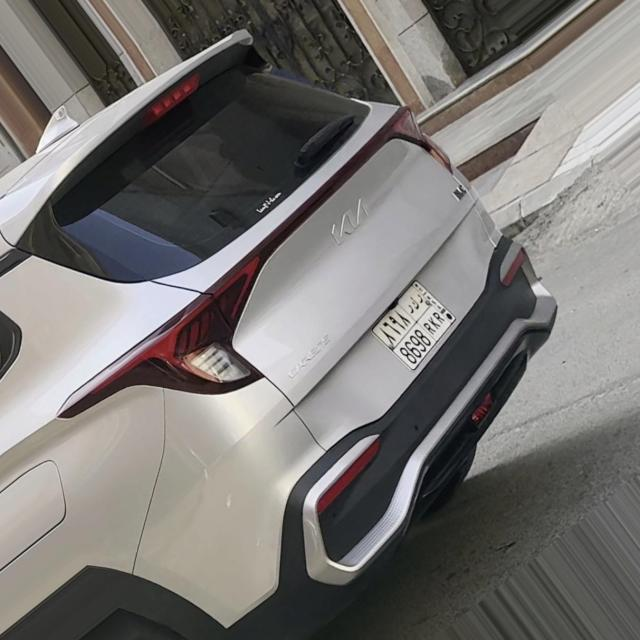Car-plate: (364, 271, 466, 383)
